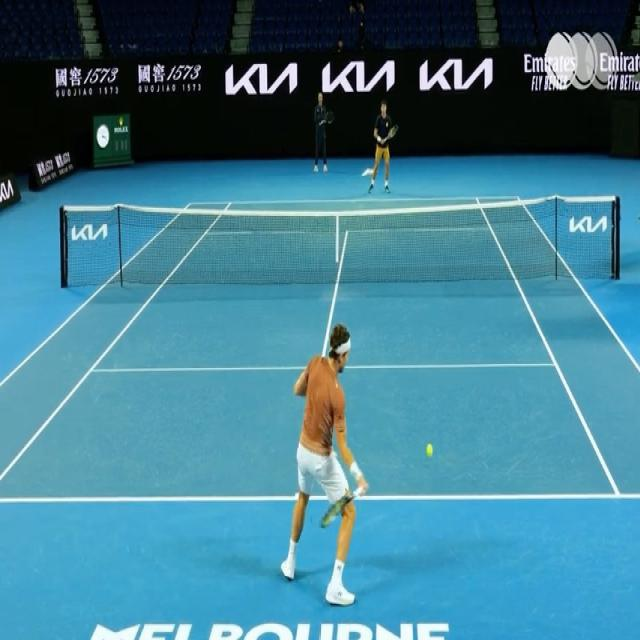forehand-stroke: (282, 324, 369, 611)
